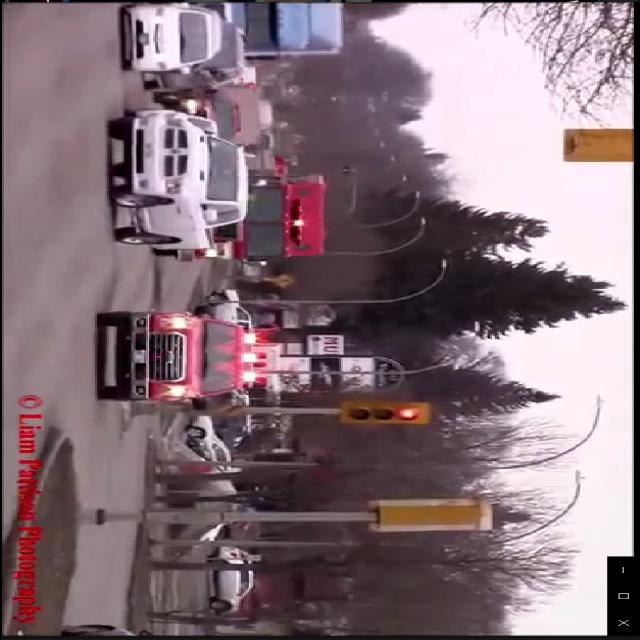emergency: (146, 169, 334, 269), (103, 307, 263, 408)
